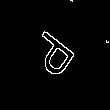P_SE: (26, 25, 84, 85)
